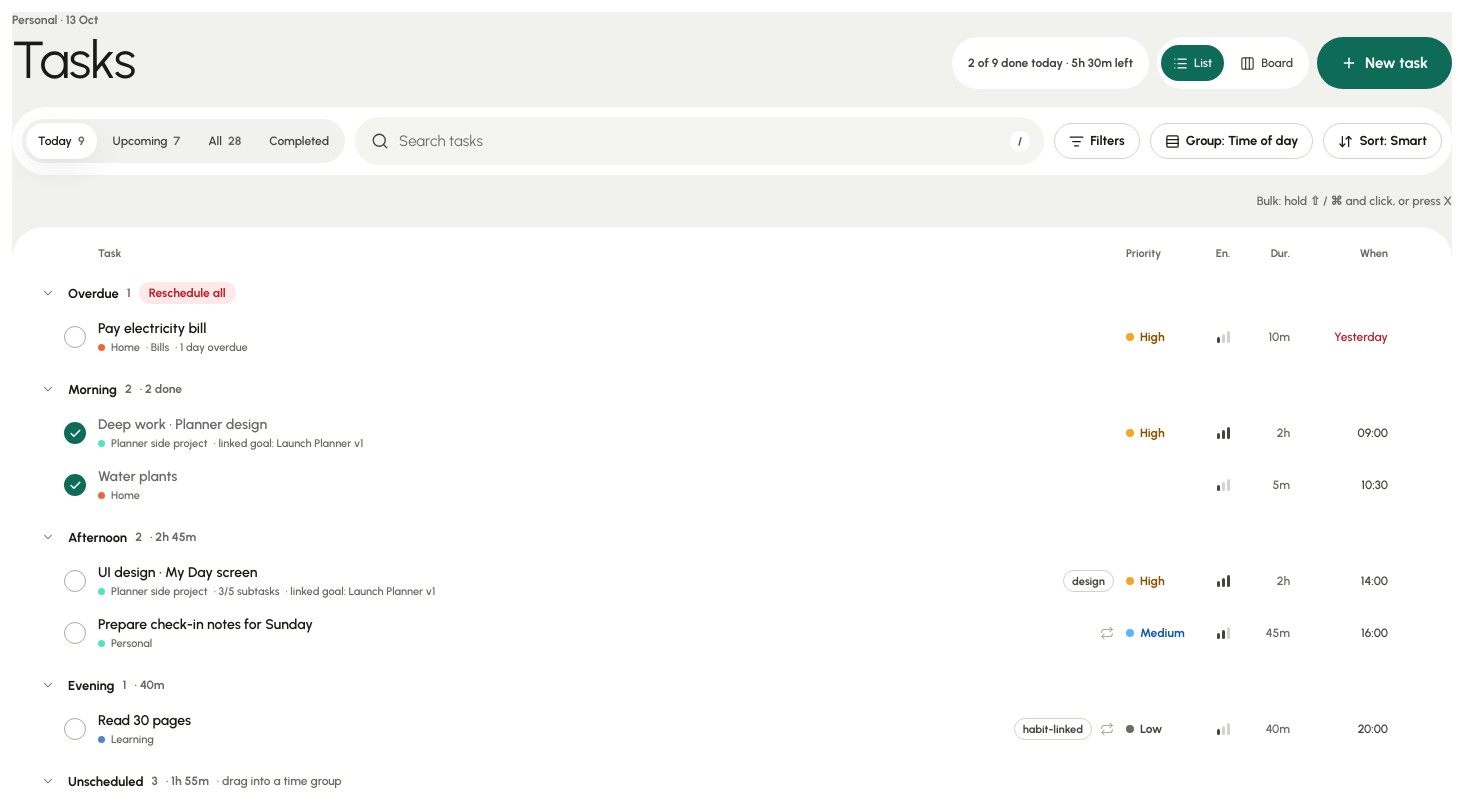
Test: TasksScreen › edits a title inline: click the title, type, Enter saves
Click the button "Read 30 pages" at (145, 721), box x1=98 y1=711 x2=191 y2=731
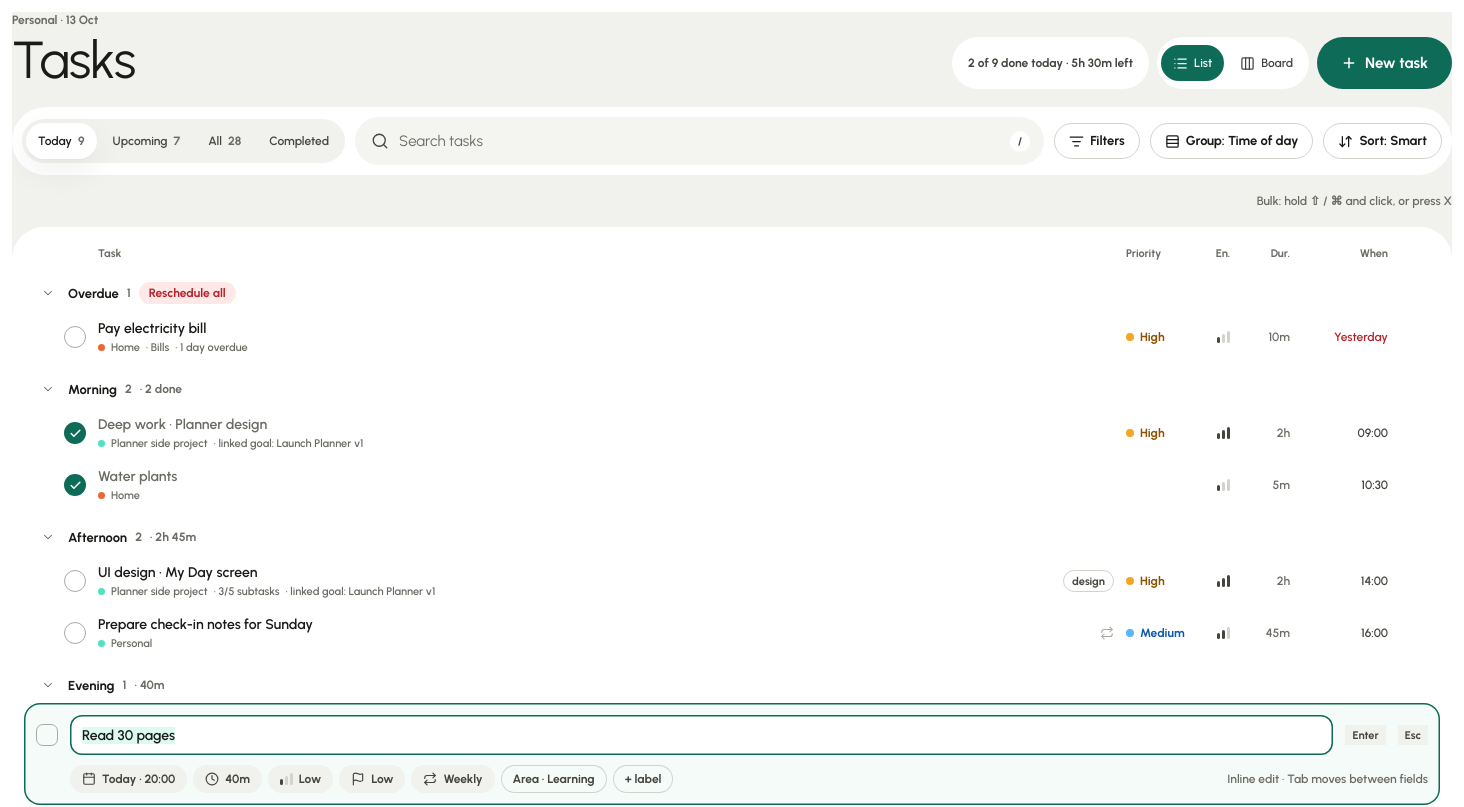
Replace the text in the field named "Task title" with "Read 40 pages" at (702, 735), box x1=70 y1=715 x2=1333 y2=755
Then press Enter
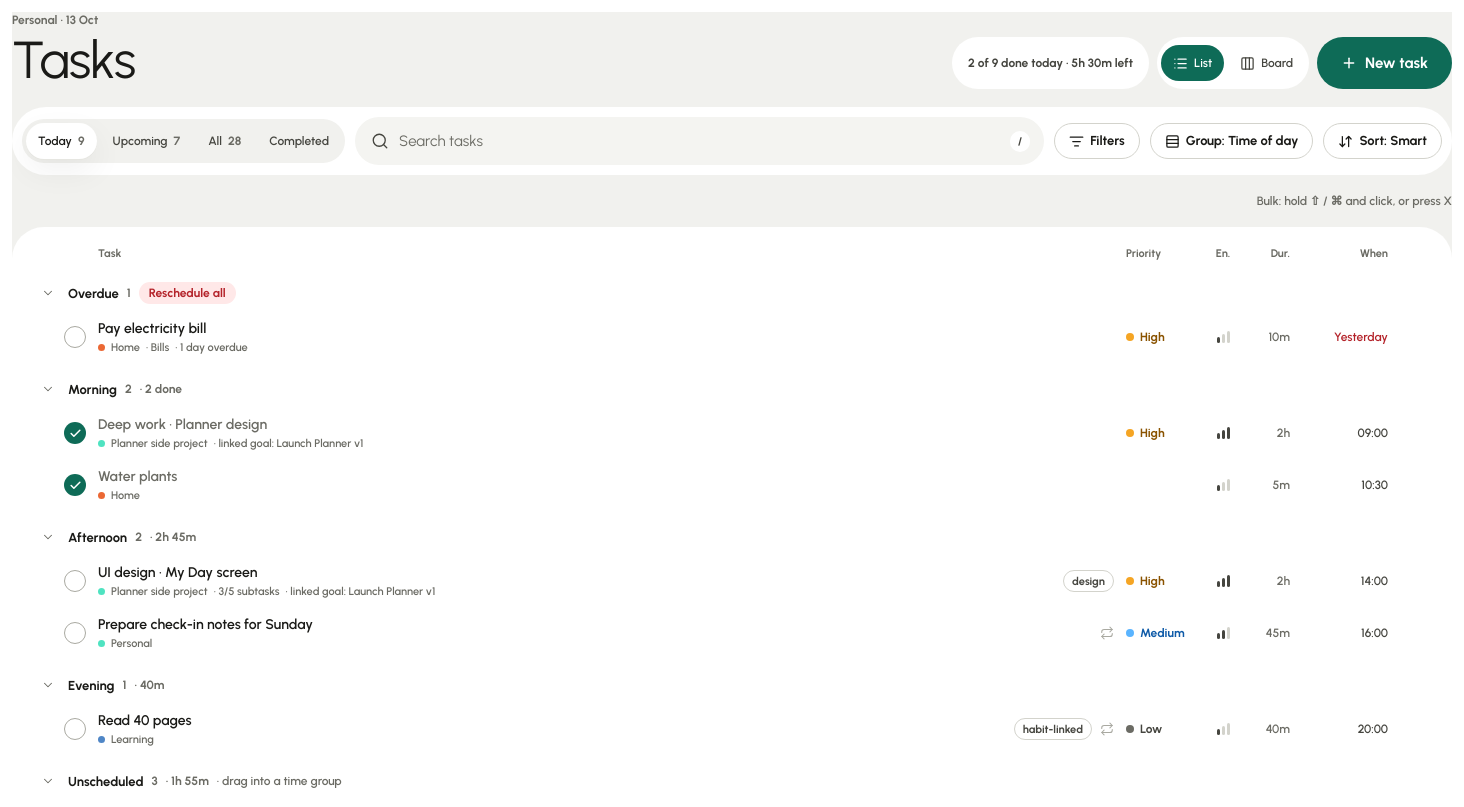
Now the button "Read 40 pages" is shown, box x1=98 y1=711 x2=192 y2=731
